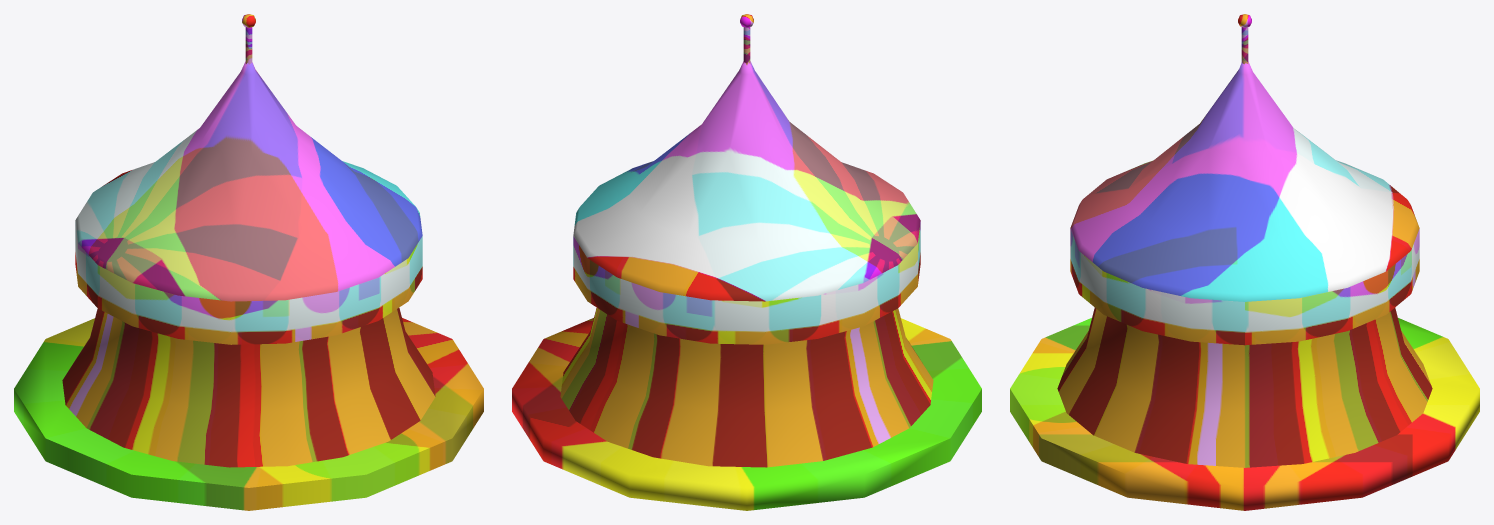
The model's file is Tent.fbx.
3 views of the same model, side by side, from view 1: azimuth 30°, elevation 25°; view 2: azimuth 150°, elevation 25°; view 3: azimuth 270°, elevation 25° (orthographic).
Visible parts, largest first — view 1: Tent; view 2: Tent; view 3: Tent.
Boxes of the visible parts, <box> form: Tent: <box>14,14,483,510</box>; Tent: <box>512,14,981,510</box>; Tent: <box>1010,14,1479,510</box>.
Bounding box in the file's own units: 3224 × 3007 × 3224.
